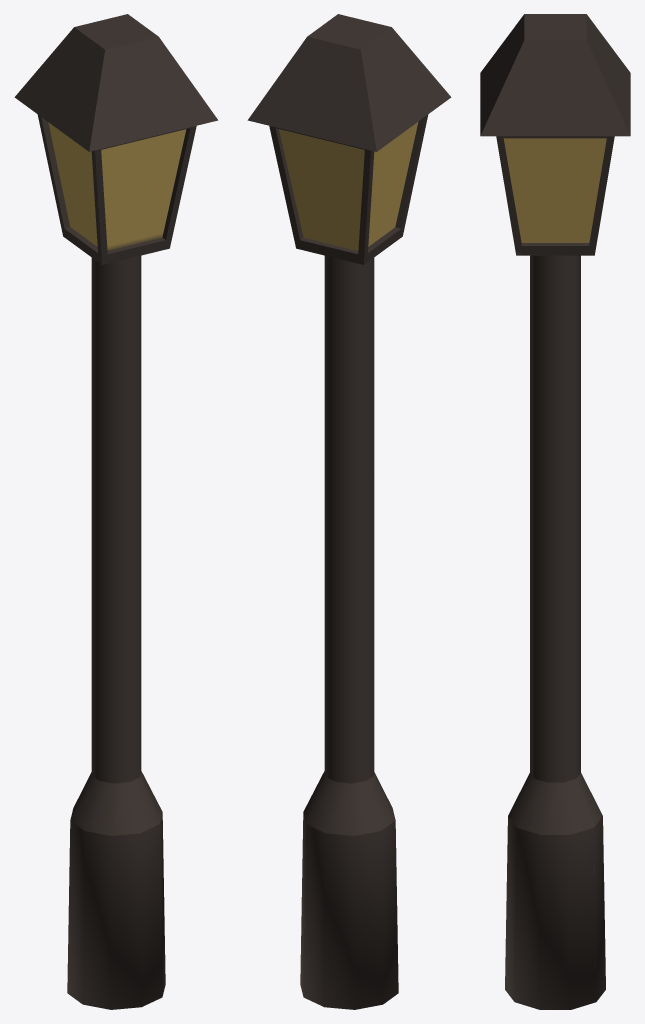
File: StreetLantern.fbx
3 renders of one model, left to right at view 1: azimuth 30°, elevation 25°; view 2: azimuth 150°, elevation 25°; view 3: azimuth 270°, elevation 25°, orthographic.
Parts seen in each view (by area): view 1: StreetLantern; view 2: StreetLantern; view 3: StreetLantern.
Part boxes in pixels (<box>): StreetLantern: <box>14,14,218,1009</box>; StreetLantern: <box>247,14,451,1009</box>; StreetLantern: <box>480,14,630,1009</box>.
Size of the model in its own units: 0.443 by 3.13 by 0.443.
